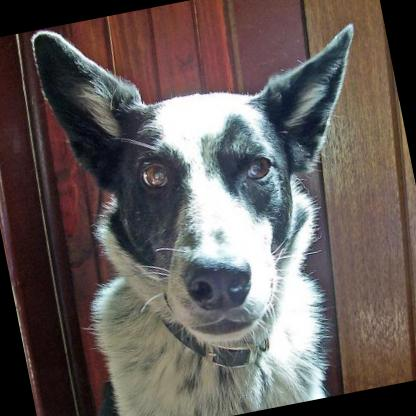kelpie: (13, 0, 416, 416)
